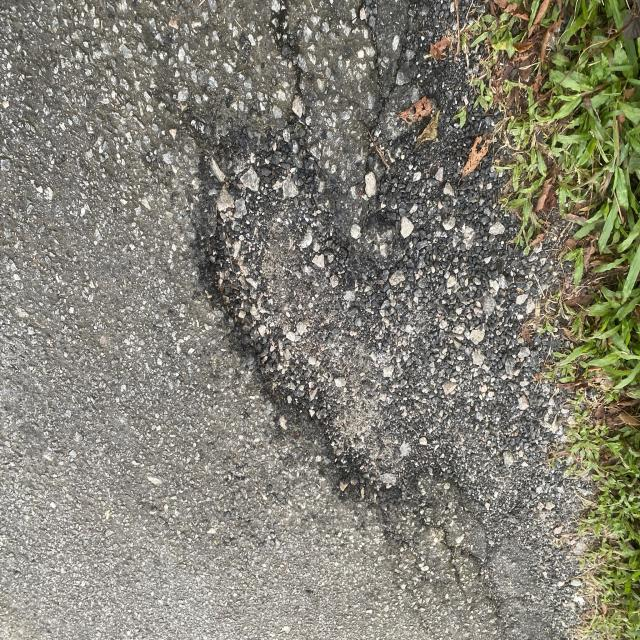Pothole: (180, 118, 516, 620)
